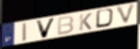B: (57, 15, 75, 36)
D: (95, 8, 117, 29)
I: (22, 22, 28, 42)
K: (78, 12, 93, 32)
V: (115, 2, 137, 26), (35, 17, 57, 39)
